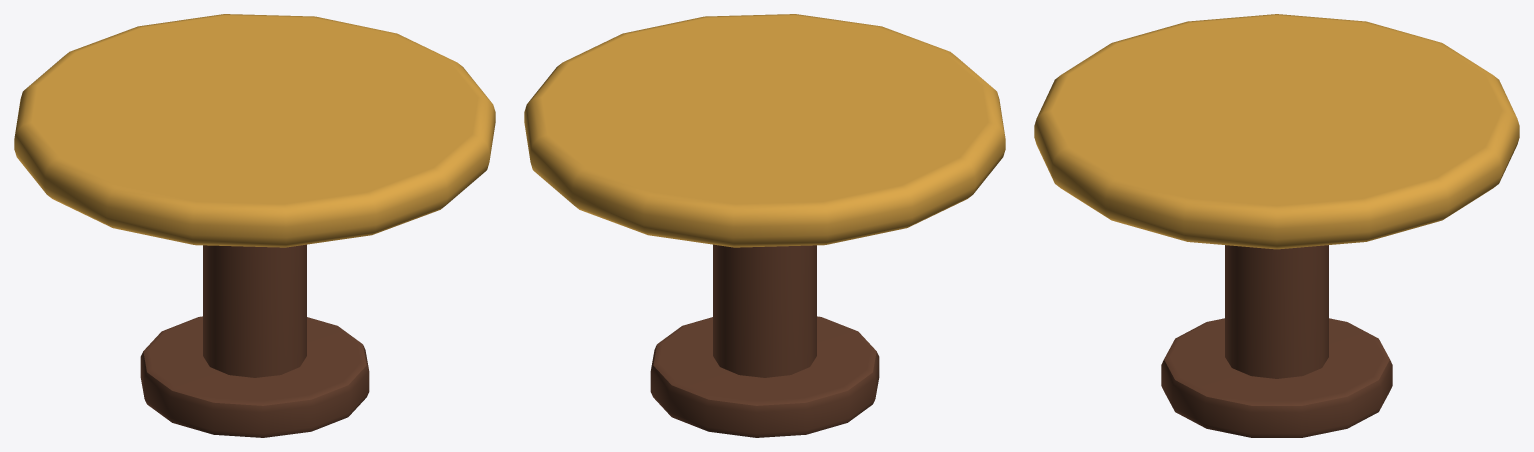
The model's file is prop_table.glb.
3 renders of one model, left to right at view 1: azimuth 30°, elevation 25°; view 2: azimuth 150°, elevation 25°; view 3: azimuth 270°, elevation 25°, orthographic.
Visible parts, largest first — view 1: table_top, table_base, table_leg; view 2: table_top, table_base, table_leg; view 3: table_top, table_base, table_leg.
Boxes of the visible parts, bbox=[...] form: table_top: bbox=[14, 14, 495, 247]; table_base: bbox=[140, 316, 369, 437]; table_leg: bbox=[203, 244, 306, 377]; table_top: bbox=[524, 14, 1005, 247]; table_base: bbox=[650, 316, 879, 437]; table_leg: bbox=[713, 244, 816, 377]; table_top: bbox=[1034, 14, 1519, 249]; table_base: bbox=[1161, 318, 1392, 437]; table_leg: bbox=[1225, 245, 1328, 378].
Bounding box in the file's own units: 0.84 × 0.54 × 0.84.
